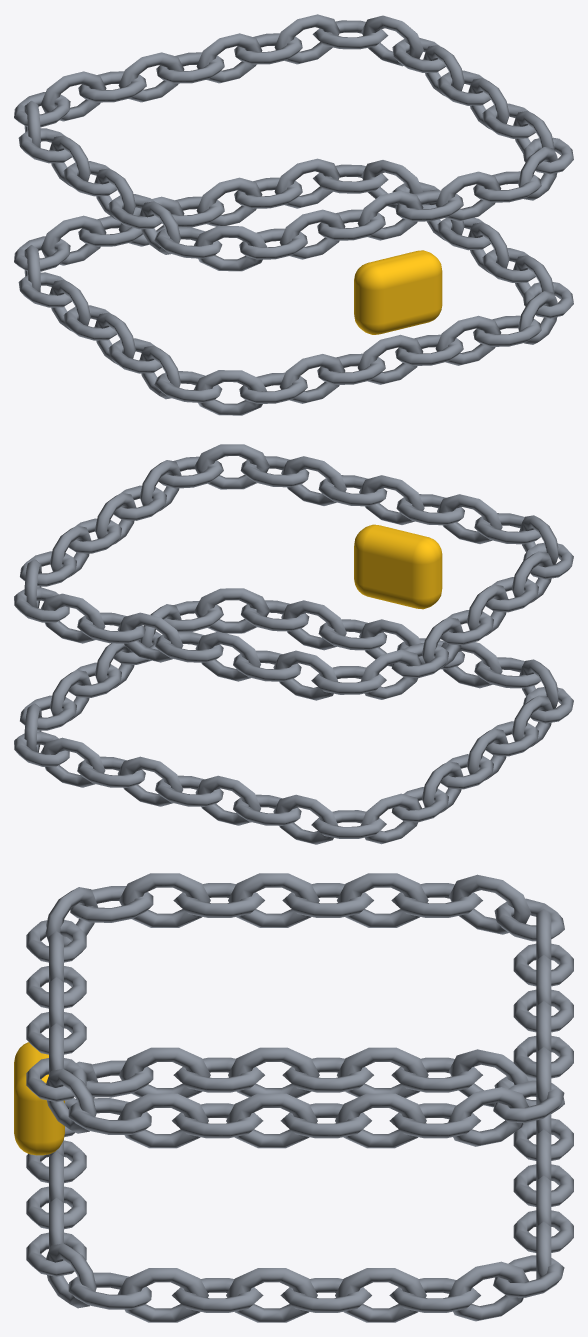
File: overlay_chains.glb
3 views of the same model, one above another, from view 1: azimuth 30°, elevation 25°; view 2: azimuth 150°, elevation 25°; view 3: azimuth 270°, elevation 25° (orthographic). The views are drawn at different scales.
Parts seen in each view (by area): view 1: ChainHigh, ChainLow, Clasp; view 2: ChainHigh, ChainLow, Clasp; view 3: ChainHigh, ChainLow, Clasp.
Boxes of the visible parts, <box> form: ChainHigh: <box>14,14,573,271</box>; ChainLow: <box>14,158,573,415</box>; Clasp: <box>354,250,442,334</box>; ChainHigh: <box>14,444,573,700</box>; ChainLow: <box>14,588,573,844</box>; Clasp: <box>354,524,442,609</box>; ChainHigh: <box>26,873,573,1148</box>; ChainLow: <box>26,1047,573,1322</box>; Clasp: <box>14,1042,64,1155</box>.
Bounding box in the file's own units: 1.03 × 0.4465 × 0.9883.
